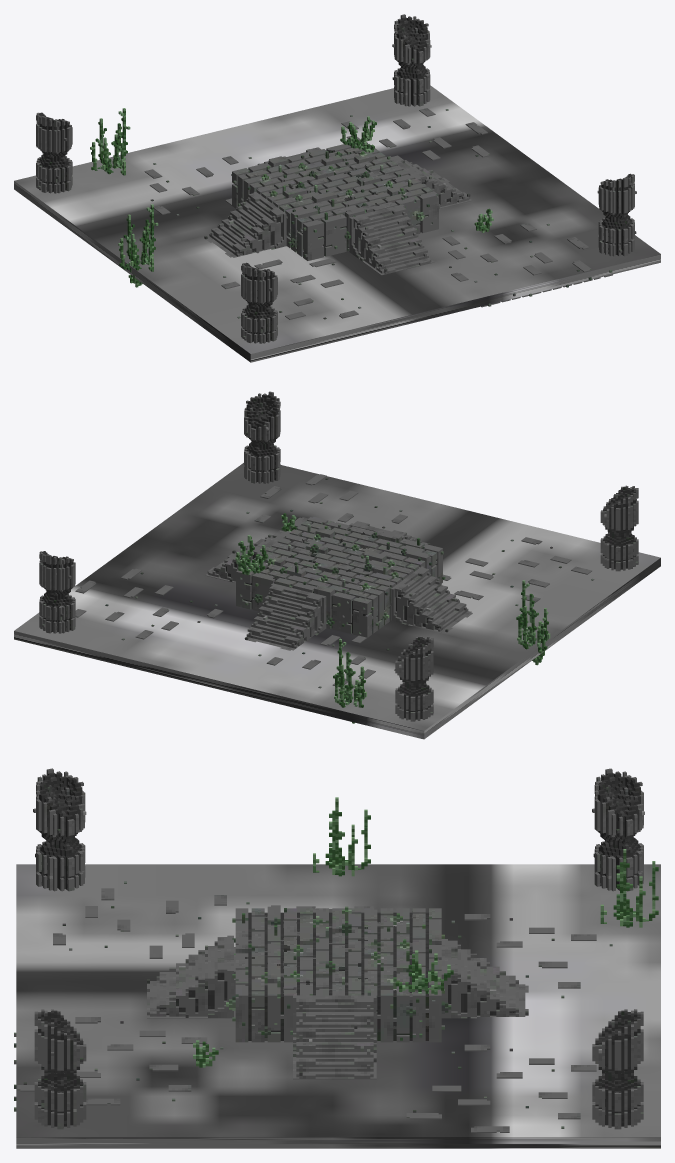
The model's file is level-01-draco.glb.
The picture shows the model from 3 angles, top to bottom: view 1: azimuth 30°, elevation 25°; view 2: azimuth 150°, elevation 25°; view 3: azimuth 270°, elevation 25°; orthographic projection. The views are drawn at different scales.
Visible parts, largest first — view 1: Cube, BlockMossMD, PillarRoundCut, StairsMD, BlockNormalXS, GroundMossXL, GroundMossMD; view 2: Cube, BlockMossMD, PillarRoundCut, StairsMD, BlockNormalXS, GroundMossXL, GroundMossMD; view 3: Cube, BlockMossMD, PillarRoundCut, StairsMD, BlockNormalXS, GroundMossXL, GroundMossMD.
Part boxes in pixels (x1,y1,x2,y2): Cube: [14, 85, 660, 362]; BlockMossMD: [232, 140, 438, 260]; PillarRoundCut: [36, 14, 636, 343]; StairsMD: [204, 147, 472, 275]; BlockNormalXS: [144, 108, 612, 319]; GroundMossXL: [90, 108, 158, 287]; GroundMossMD: [340, 116, 376, 152]; Cube: [14, 463, 660, 739]; BlockMossMD: [236, 517, 445, 637]; PillarRoundCut: [39, 391, 638, 721]; StairsMD: [205, 521, 472, 650]; BlockNormalXS: [75, 474, 594, 688]; GroundMossXL: [333, 580, 550, 723]; GroundMossMD: [235, 535, 268, 575]; Cube: [16, 864, 660, 1148]; BlockMossMD: [226, 905, 451, 1042]; PillarRoundCut: [33, 768, 644, 1129]; StairsMD: [147, 906, 528, 1079]; BlockNormalXS: [14, 881, 612, 1132]; GroundMossXL: [313, 797, 658, 927]; GroundMossMD: [395, 950, 453, 994].
Size of the model in its own units: 20.4 by 4.59 by 20.07.
Materials: 8 (8 with a texture image).
